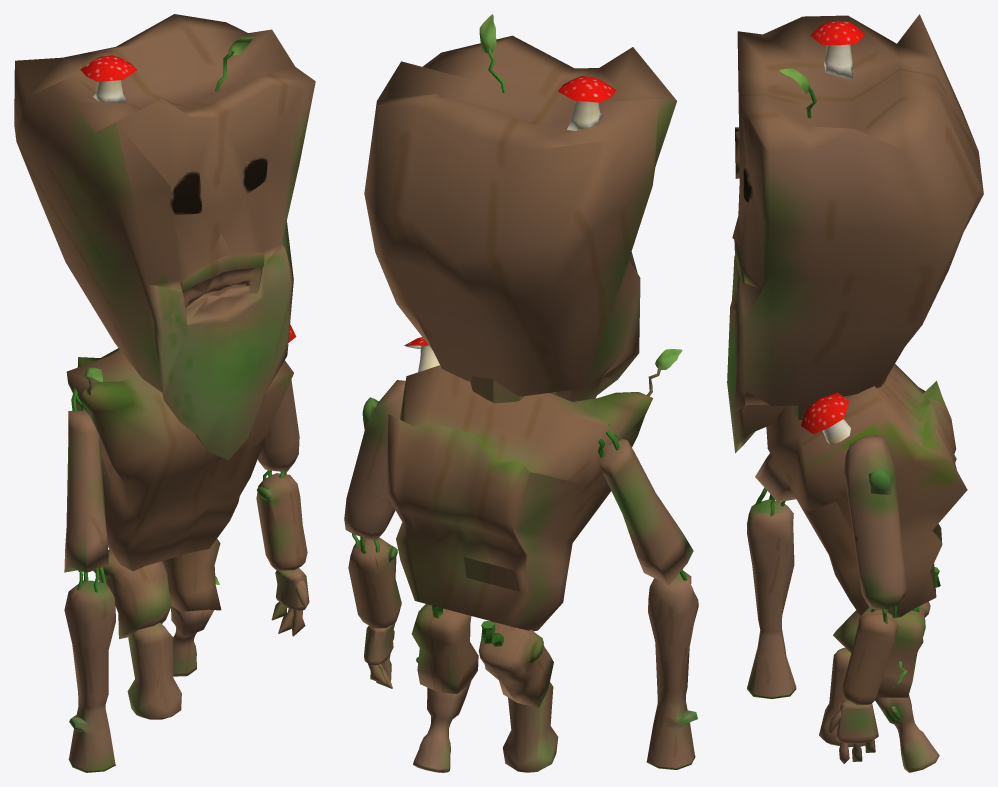
3 views of the same model, side by side, from view 1: azimuth 30°, elevation 25°; view 2: azimuth 150°, elevation 25°; view 3: azimuth 270°, elevation 25° (orthographic). The views are drawn at different scales.
Parts seen in each view (by area): view 1: head, body, walking_stick_arm, upper_arm_r, left_bottom_leg, arm, left_top_leg, right_top_leg, upper_arm_l, right_bottom_leg, hand; view 2: head, body, walking_stick_arm, upper_arm_r, upper_arm_l, right_top_leg, left_top_leg, arm, left_bottom_leg, right_bottom_leg, hand, neck; view 3: head, body, upper_arm_l, walking_stick_arm, arm, right_top_leg, right_bottom_leg, hand, left_bottom_leg, upper_arm_r, left_top_leg.
Boxes of the visible parts, x1=… form: head: x1=14, y1=14, x2=315, y2=460; body: x1=66, y1=324, x2=296, y2=571; walking_stick_arm: x1=64, y1=580, x2=115, y2=772; upper_arm_r: x1=64, y1=387, x2=108, y2=592; left_bottom_leg: x1=127, y1=622, x2=181, y2=719; arm: x1=256, y1=473, x2=307, y2=570; left_top_leg: x1=93, y1=549, x2=171, y2=638; right_top_leg: x1=162, y1=538, x2=221, y2=611; upper_arm_l: x1=258, y1=380, x2=299, y2=480; right_bottom_leg: x1=171, y1=606, x2=214, y2=676; hand: x1=275, y1=568, x2=309, y2=610; head: x1=364, y1=14, x2=676, y2=401; body: x1=387, y1=337, x2=682, y2=631; walking_stick_arm: x1=646, y1=571, x2=698, y2=769; upper_arm_r: x1=598, y1=424, x2=693, y2=585; upper_arm_l: x1=344, y1=380, x2=405, y2=553; right_top_leg: x1=411, y1=604, x2=478, y2=693; left_top_leg: x1=478, y1=621, x2=553, y2=707; arm: x1=348, y1=537, x2=401, y2=628; left_bottom_leg: x1=503, y1=682, x2=558, y2=772; right_bottom_leg: x1=413, y1=682, x2=470, y2=772; hand: x1=364, y1=622, x2=395, y2=665; neck: x1=470, y1=375, x2=556, y2=403; head: x1=727, y1=14, x2=983, y2=453; body: x1=766, y1=364, x2=967, y2=617; upper_arm_l: x1=844, y1=435, x2=907, y2=623; walking_stick_arm: x1=747, y1=499, x2=796, y2=698; arm: x1=841, y1=608, x2=898, y2=705; right_top_leg: x1=876, y1=606, x2=925, y2=697; right_bottom_leg: x1=875, y1=695, x2=939, y2=772; hand: x1=836, y1=700, x2=878, y2=743; left_bottom_leg: x1=819, y1=647, x2=865, y2=747; upper_arm_r: x1=755, y1=453, x2=795, y2=516; left_top_leg: x1=833, y1=567, x2=940, y2=652.
Bounding box in the file's own units: 0.0314 × 0.0732 × 0.0241.
1 material, 1 textured.
